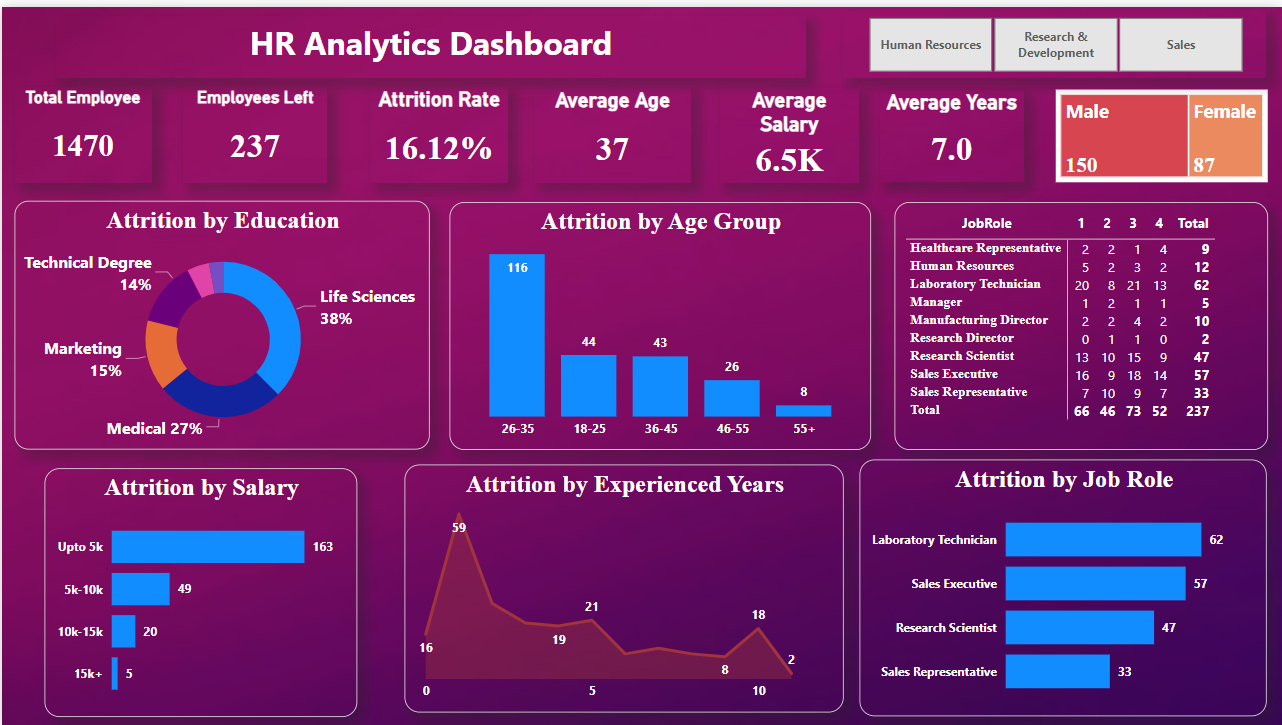

What the dashboard file says about the page in this screenshot:
{"tool":"powerbi","page":{"name":"Page 1","canvas":[1280,720],"ordinal":0},"visuals":[{"type":"card","title":"Total Employee","fields":{"Values":["CountNonNull(HR_Analytics.EmpID)"]},"box":[12.3,80.4,137.2,96.1],"z":0},{"type":"card","title":"Average Salary","fields":{"Values":["Avg(HR_Analytics.MonthlyIncome)"]},"box":[717.7,81.8,140,94.7],"z":6},{"type":"card","title":"Average Age","fields":{"Values":["Avg(HR_Analytics.Age)"]},"box":[532.4,81.8,156.4,94.7],"z":7},{"type":"card","title":"Employees Left","fields":{"Values":["Sum(HR_Analytics.Attrition Value)"]},"box":[181.1,80.4,144.1,96.1],"z":8},{"type":"card","title":"Attrition Rate","fields":{"Values":["HR_Analytics.Attrition Rate"]},"box":[369.1,80.4,137.2,96.1],"z":9},{"type":"card","title":"Average Years","fields":{"Values":["Avg(HR_Analytics.YearsAtCompany)"]},"box":[877.1,82,144.8,92.9],"z":10},{"type":"donutChart","title":"Attrition  by Education","fields":{"Category":["HR_Analytics.EducationField"],"Y":["Sum(HR_Analytics.Attrition Value)"]},"box":[12.1,194.2,415,248.5],"z":11},{"type":"columnChart","title":"Attrition  by Age Group","fields":{"Category":["HR_Analytics.AgeGroup"],"Y":["Sum(HR_Analytics.Attrition Value)"]},"box":[447.3,194.6,421.3,248.4],"z":12},{"type":"pivotTable","fields":{"Rows":["HR_Analytics.JobRole"],"Columns":["HR_Analytics.JobSatisfaction"],"Values":["Sum(HR_Analytics.Attrition Value)"]},"box":[891.9,194.6,373.2,248.4],"z":13},{"type":"barChart","title":"Attrition  by Salary","fields":{"Category":["HR_Analytics.SalarySlab"],"Y":["Sum(HR_Analytics.Attrition Value)"]},"box":[42.2,460.9,312.5,248.5],"z":14},{"type":"barChart","title":"Attrition  by Job Role","fields":{"Y":["Sum(HR_Analytics.Attrition Value)"],"Category":["HR_Analytics.JobRole"]},"box":[857.6,452.6,407.5,256.6],"z":15},{"type":"areaChart","title":"Attrition  by Experienced Years","fields":{"Category":["HR_Analytics.YearsAtCompany"],"Y":["Sum(HR_Analytics.Attrition Value)"]},"box":[402.1,458,439.1,248.4],"z":16},{"type":"treemap","fields":{"Group":["HR_Analytics.Gender"],"Values":["Sum(HR_Analytics.Attrition Value)"]},"box":[1053.2,82,212.3,92.9],"z":17},{"type":"textbox","box":[54.3,8.4,750.4,62.7],"z":18},{"type":"slicer","fields":{"Values":["HR_Analytics.Department"]},"box":[840.9,3.6,423.5,67.6],"z":19}]}

Visuals, with their boxes in screenshot pixels (x1, y1, x2, y2), scaled from the page's 1280x720 canvas onto the 1282x725 screenshot:
"Total Employee" card: [12, 81, 150, 178]
"Average Salary" card: [719, 82, 859, 178]
"Average Age" card: [533, 82, 690, 178]
"Employees Left" card: [181, 81, 326, 178]
"Attrition Rate" card: [370, 81, 507, 178]
"Average Years" card: [878, 83, 1023, 176]
"Attrition  by Education" donutChart: [12, 196, 428, 446]
"Attrition  by Age Group" columnChart: [448, 196, 870, 446]
pivotTable - HR_Analytics.JobRole x HR_Analytics.JobSatisfaction: [893, 196, 1267, 446]
"Attrition  by Salary" barChart: [42, 464, 355, 714]
"Attrition  by Job Role" barChart: [859, 456, 1267, 714]
"Attrition  by Experienced Years" areaChart: [403, 461, 843, 711]
treemap - HR_Analytics.Gender x Sum(HR_Analytics.Attrition Value): [1055, 83, 1267, 176]
textbox: [54, 8, 806, 72]
slicer - HR_Analytics.Department: [842, 4, 1266, 72]
